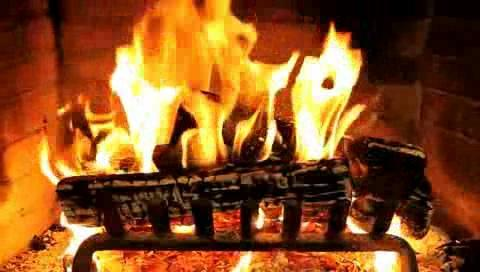fire: (100, 4, 352, 173)
